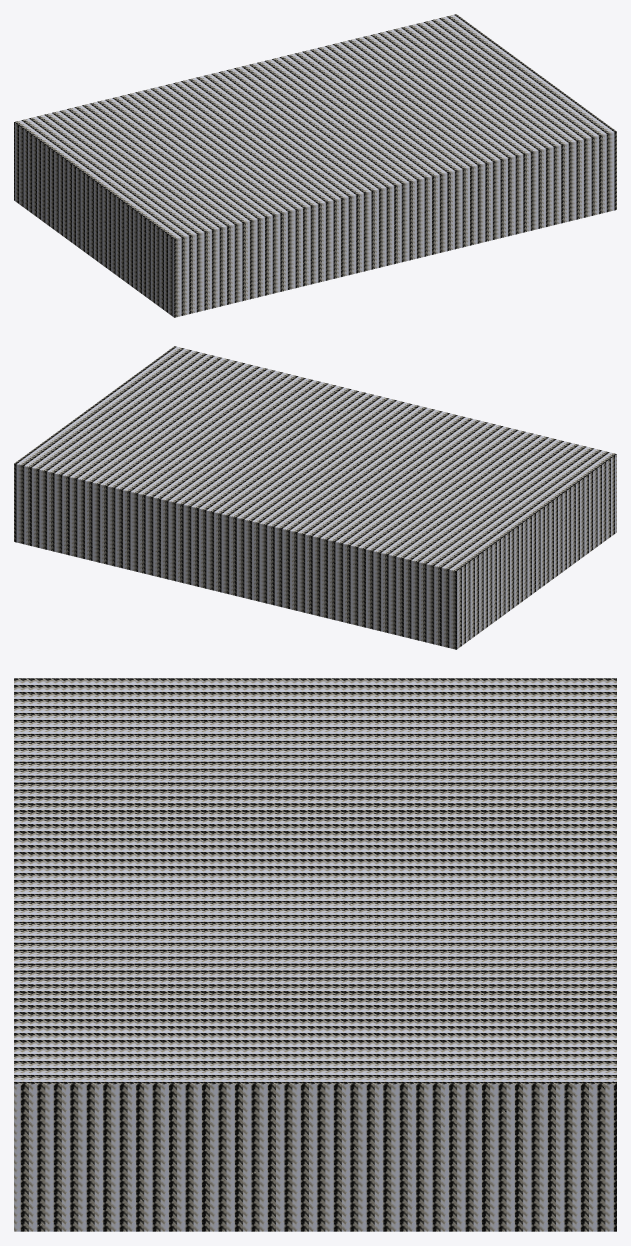
The model's file is Town_brush.glb.
3 views of the same model, one above another, from view 1: azimuth 30°, elevation 25°; view 2: azimuth 150°, elevation 25°; view 3: azimuth 270°, elevation 25° (orthographic). The views are drawn at different scales.
Visible parts, largest first — view 1: Town; view 2: Town; view 3: Town.
Part boxes in pixels (x1=…): Town: x1=14, y1=14, x2=616, y2=317; Town: x1=14, y1=346, x2=616, y2=649; Town: x1=14, y1=678, x2=616, y2=1231.
Size of the model in its own units: 14923 by 3001 by 9371.
Materials: 3 (3 with a texture image).
